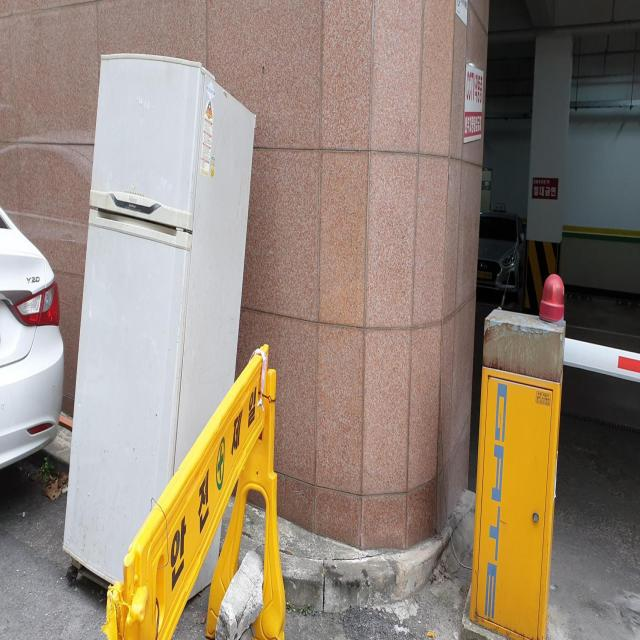refrigerator: (62, 51, 258, 604)
